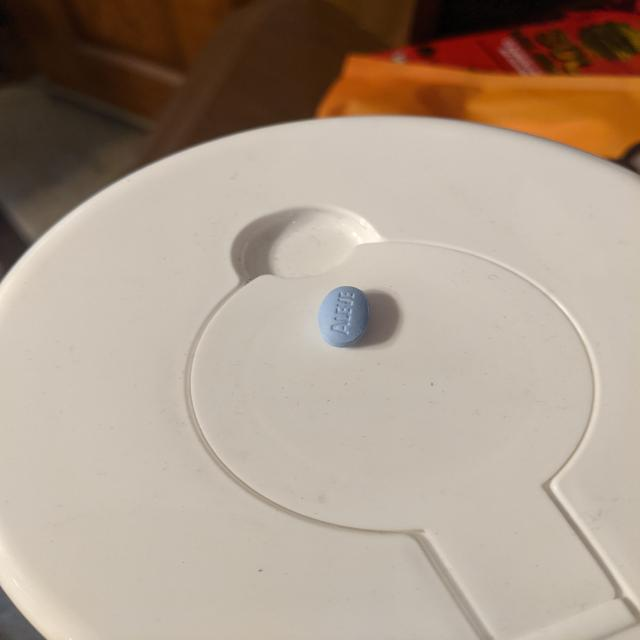non-organic waste: (317, 285, 371, 349)
